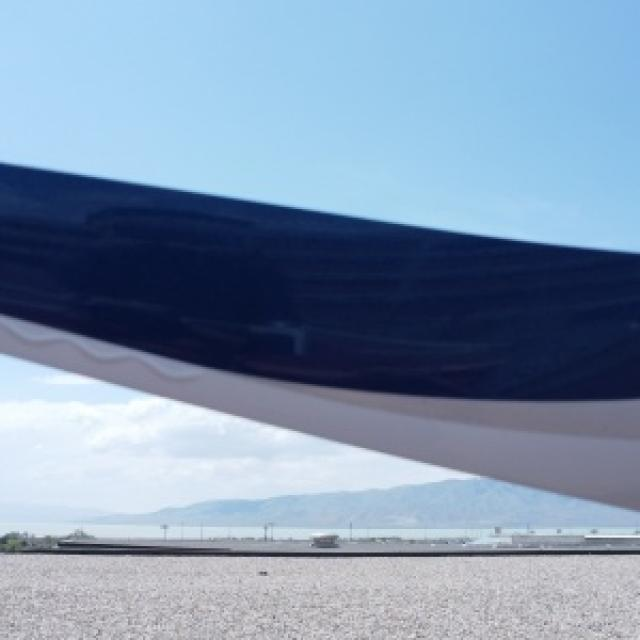healthy: (0, 164, 638, 523)
